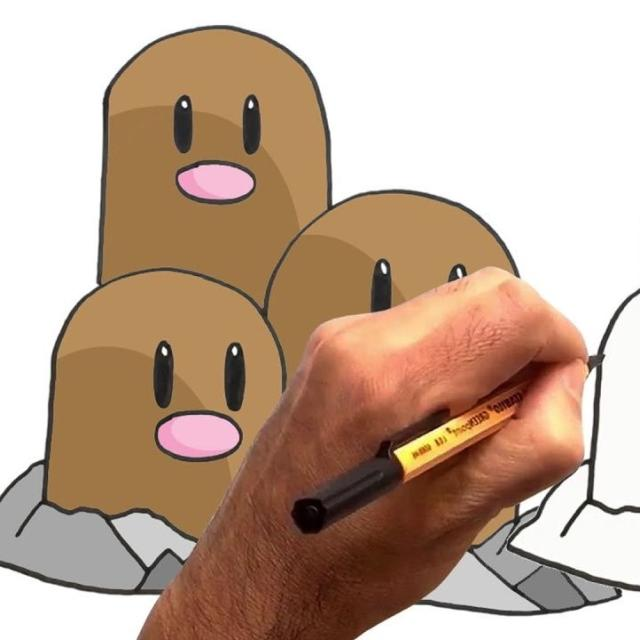Dugtrio: (48, 25, 469, 504)
